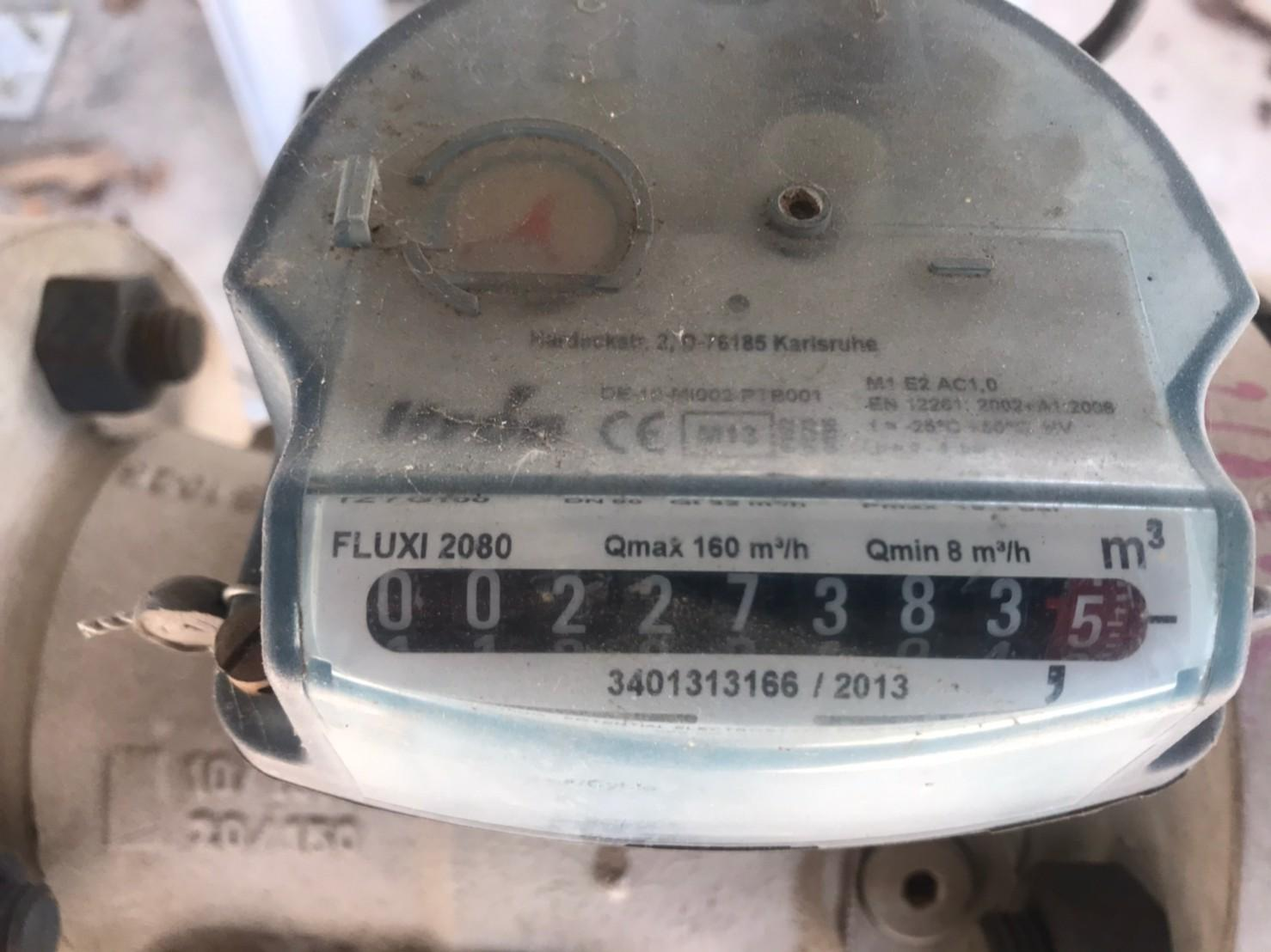analog_dial: (357, 555, 1180, 683)
